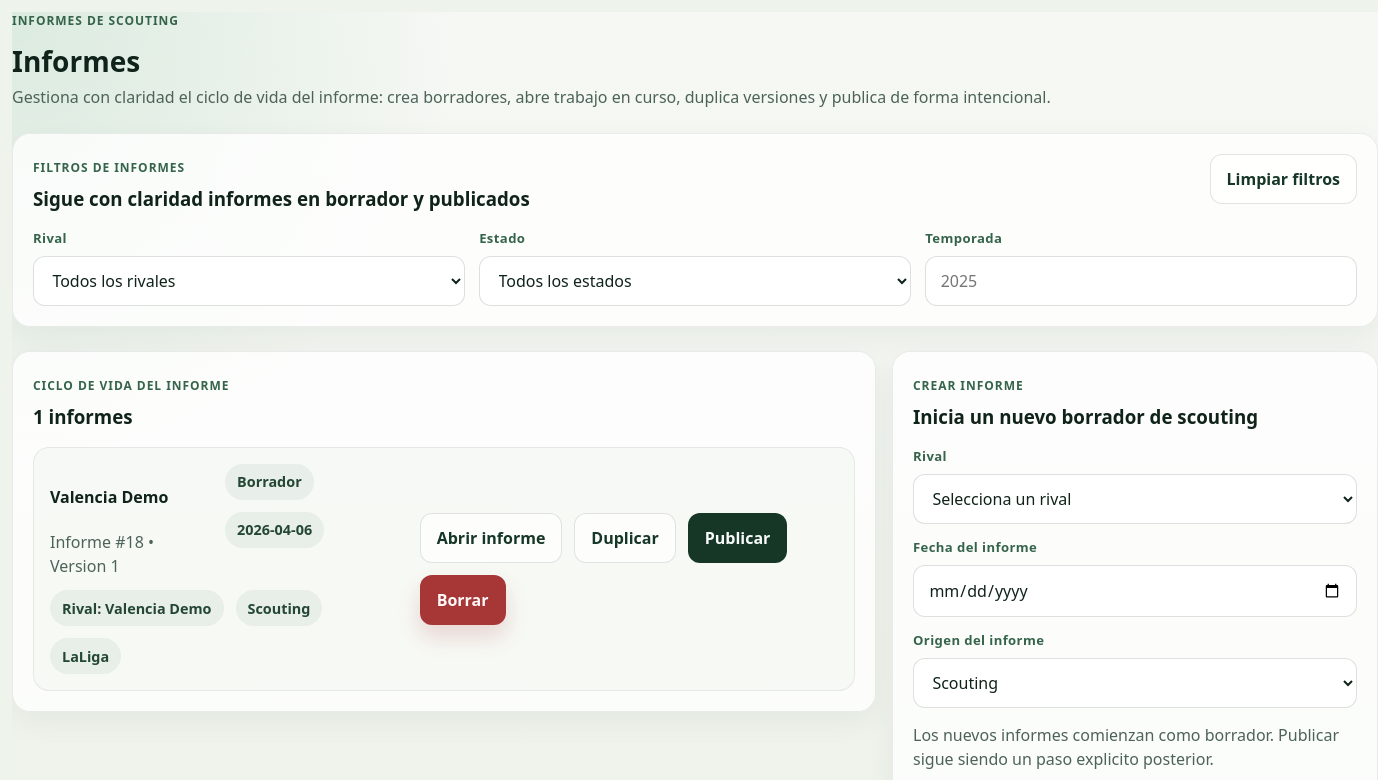
Test: ReportsPage › deletes a report from the list
Step 1. Click the button "Borrar" → (463, 600), box 420,575 -> 506,625
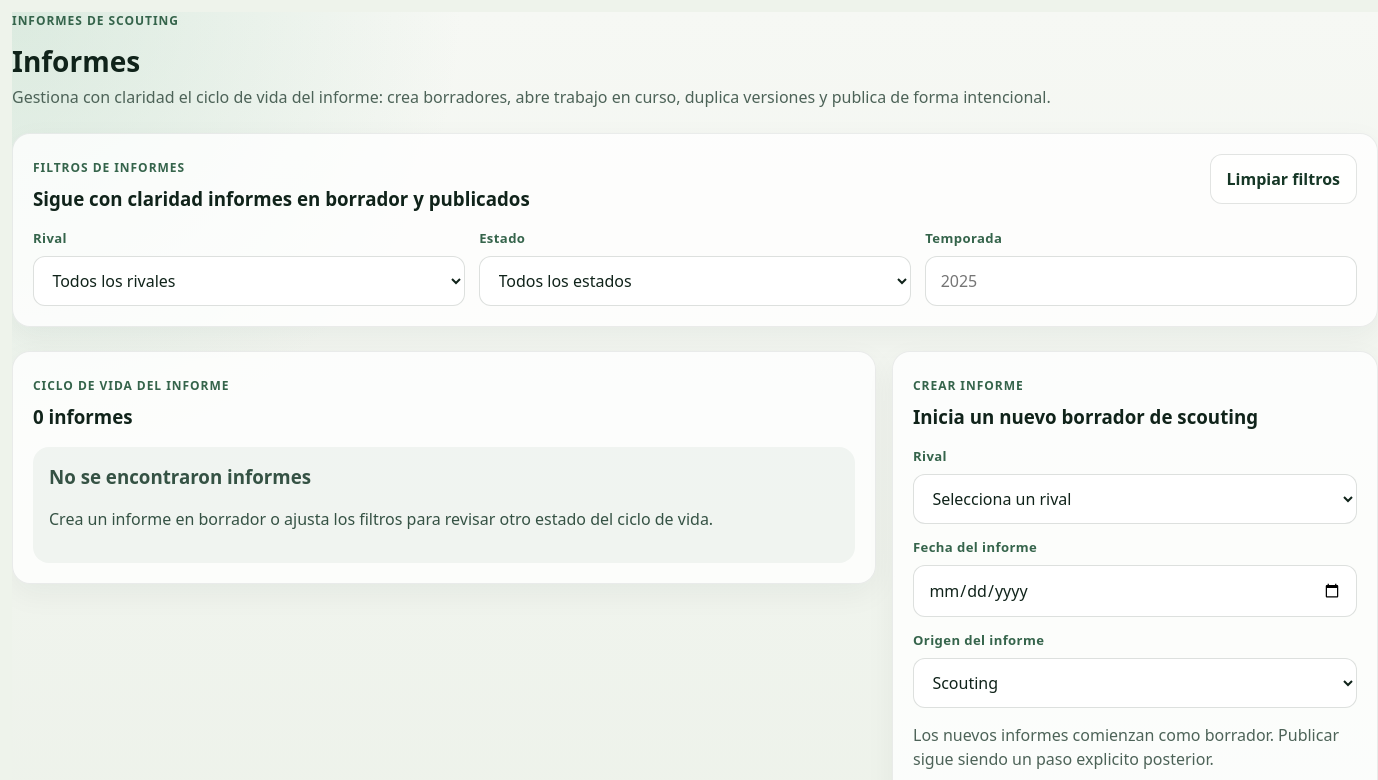
Now the heading "No se encontraron informes" is shown, box 49,464 -> 311,489
